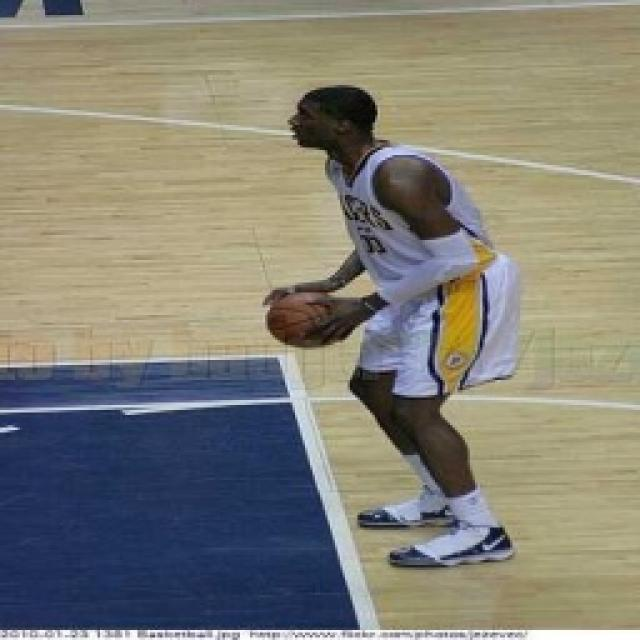basketball: (268, 284, 347, 350)
